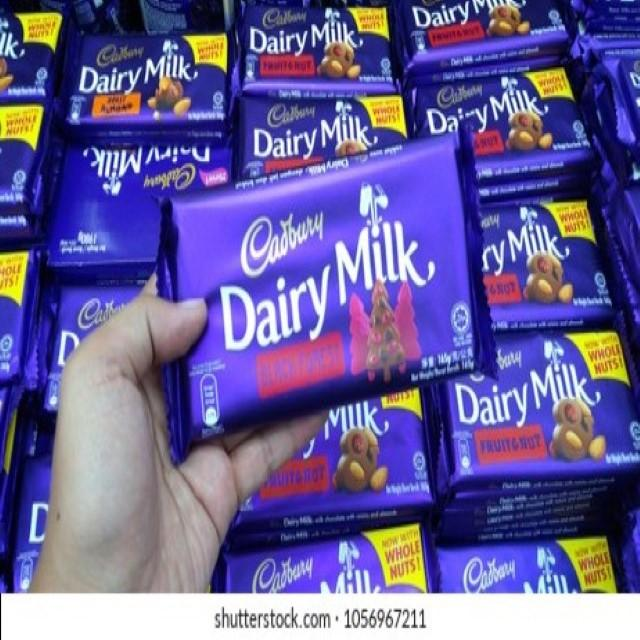cadbury_chocolate: (175, 125, 478, 438), (433, 330, 640, 470), (242, 392, 437, 510), (418, 68, 595, 185), (52, 33, 235, 138), (50, 143, 237, 245), (477, 199, 612, 327), (238, 90, 417, 172), (248, 3, 418, 88)
